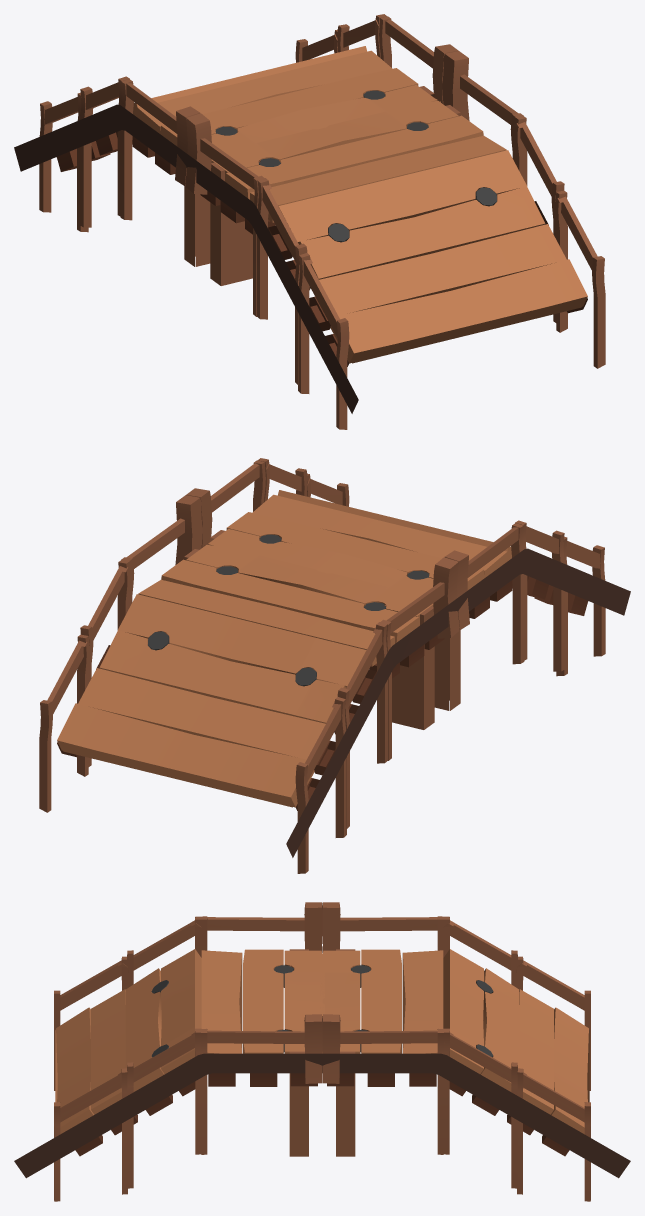
The model's file is Bridge.fbx.
3 views of the same model, one above another, from view 1: azimuth 30°, elevation 25°; view 2: azimuth 150°, elevation 25°; view 3: azimuth 270°, elevation 25° (orthographic). The views are drawn at different scales.
Visible parts, largest first — view 1: Mesh2, Mesh3; view 2: Mesh3, Mesh2; view 3: Mesh2, Mesh3.
Part boxes in pixels (x1,y1,x2,y2): Mesh2: [185, 51, 605, 429]; Mesh3: [14, 14, 458, 266]; Mesh3: [39, 495, 459, 873]; Mesh2: [186, 458, 630, 710]; Mesh2: [14, 902, 324, 1201]; Mesh3: [320, 902, 630, 1201].
Size of the model in its own units: 14.05 by 10.04 by 30.4.
